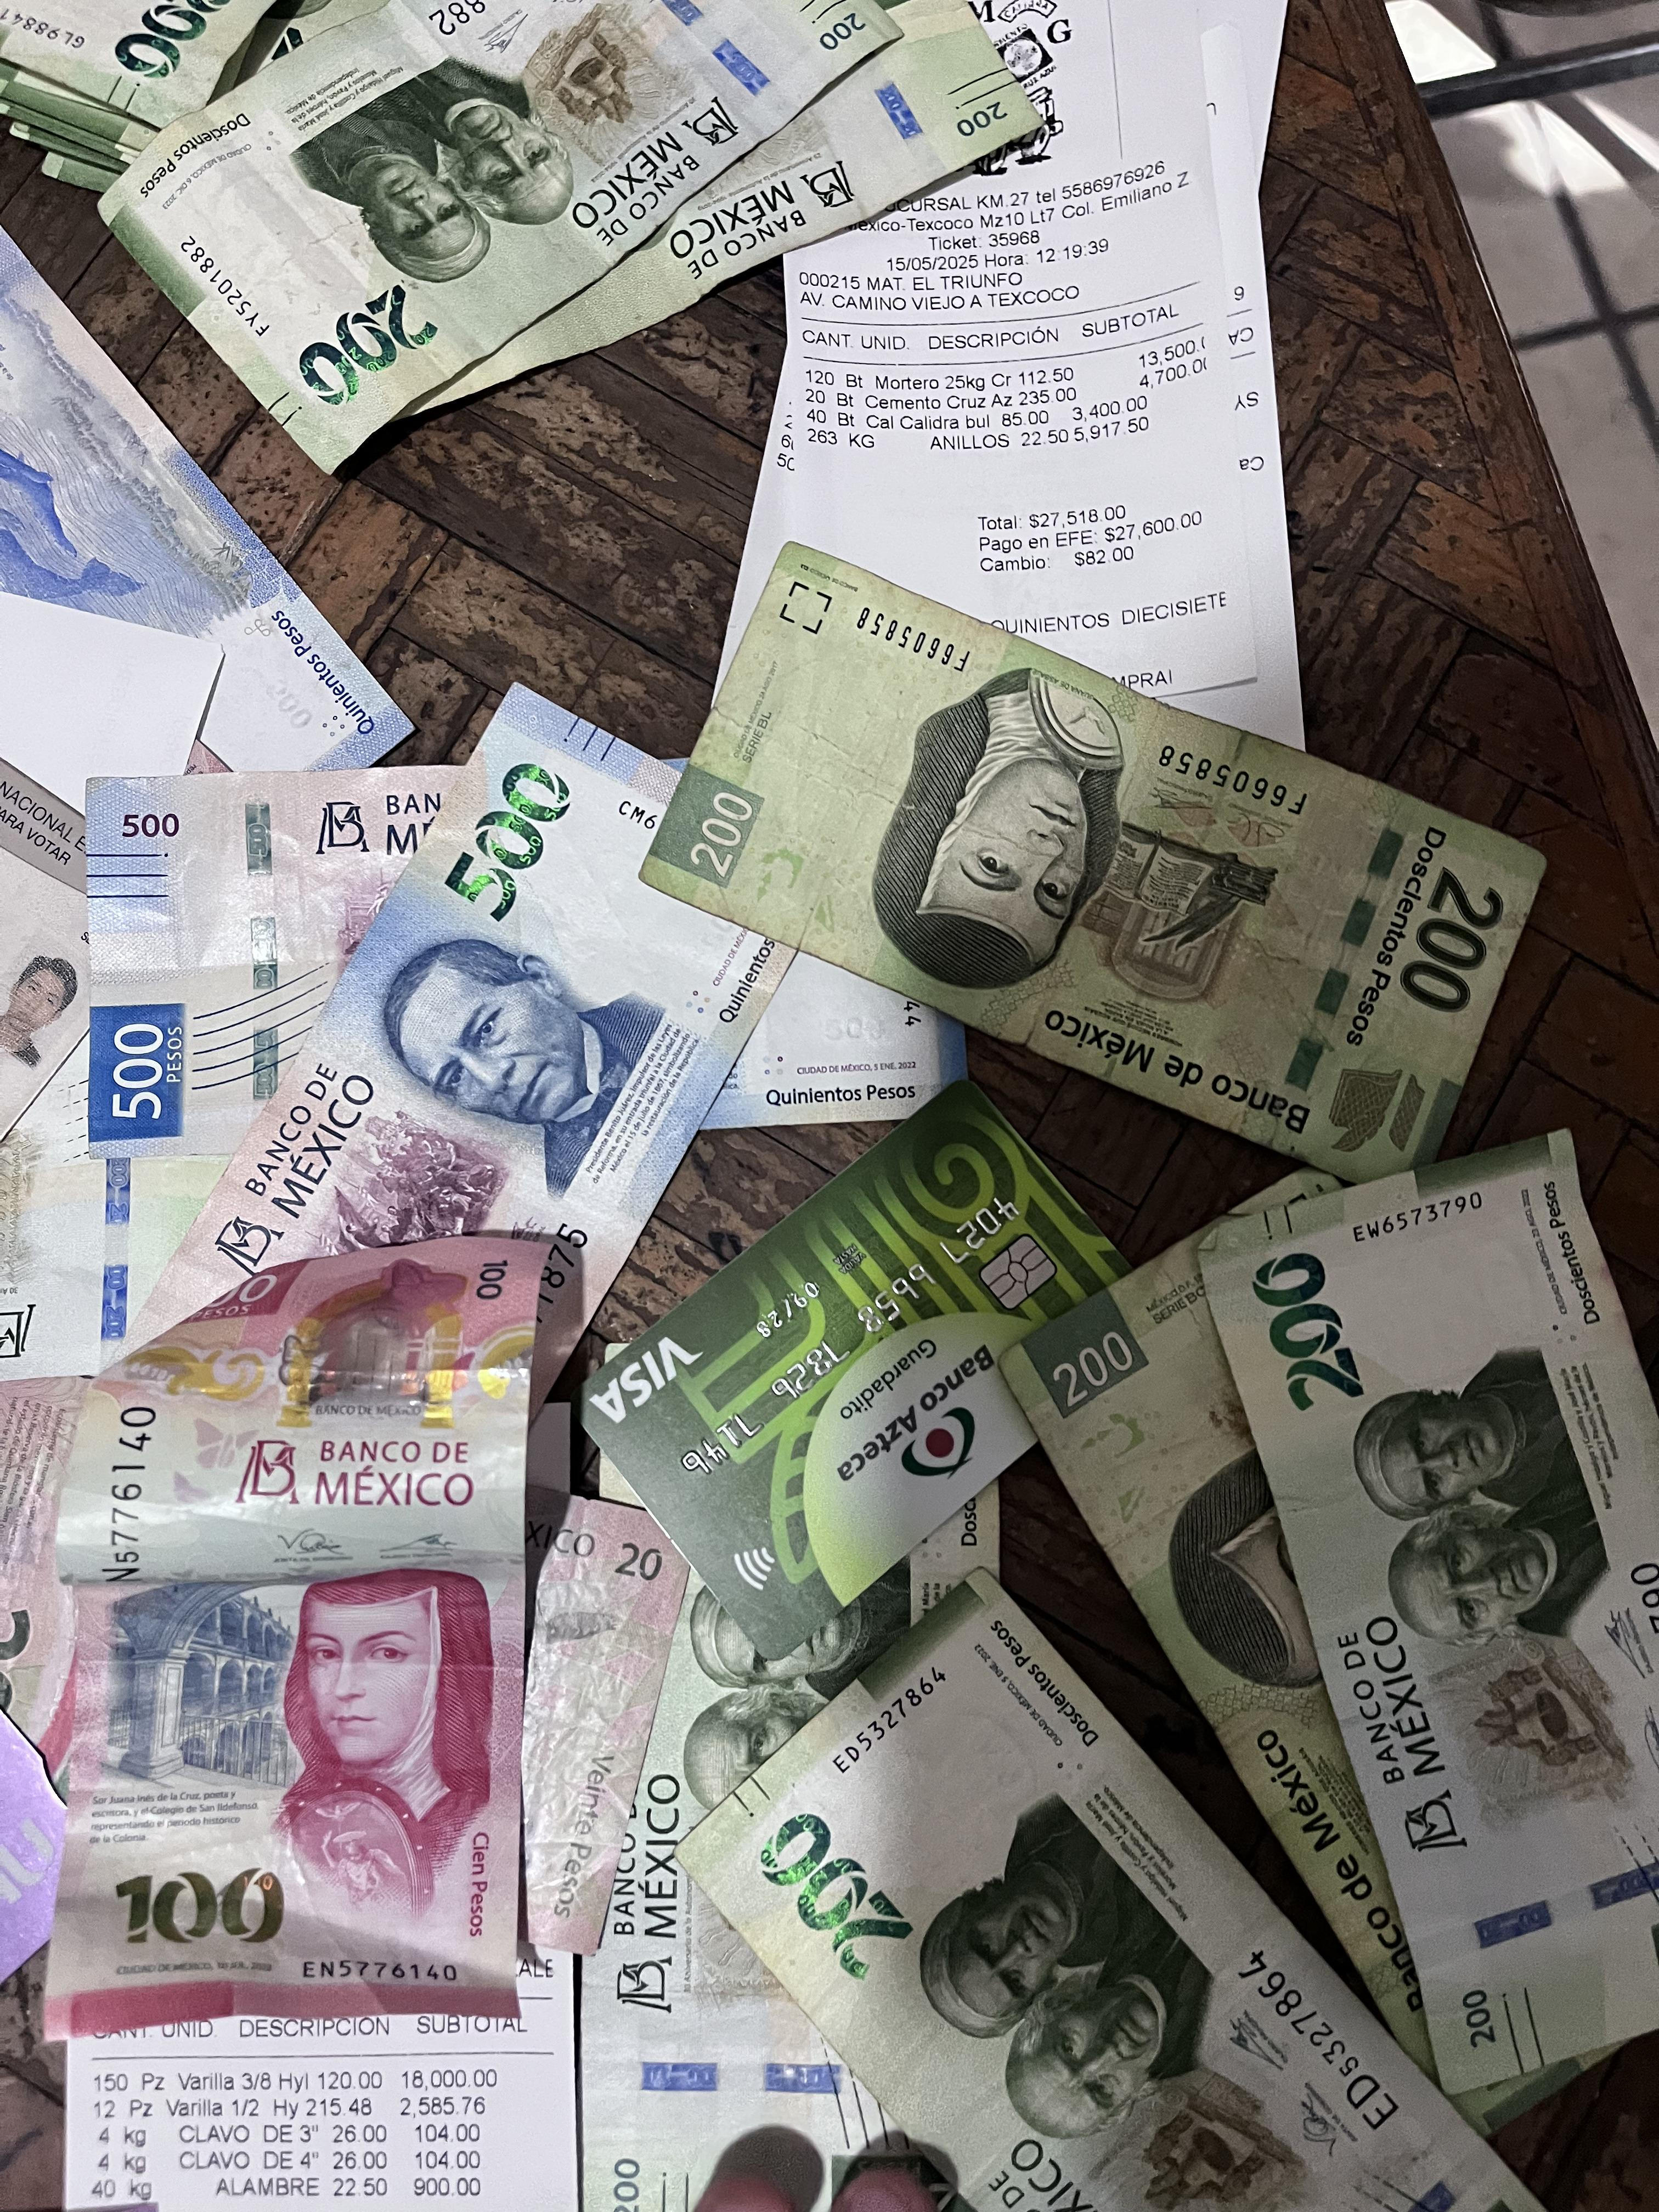100: (61, 1221, 570, 2067)
20: (455, 1479, 688, 1963)
200: (992, 1157, 1624, 2134), (638, 535, 1547, 1207), (669, 1559, 1568, 2212), (96, 0, 1131, 484), (559, 1320, 1063, 2212), (1199, 1125, 1659, 2094), (2, 0, 312, 192)
500 nuevo: (92, 679, 796, 1472), (68, 768, 997, 1132), (0, 225, 420, 770)
